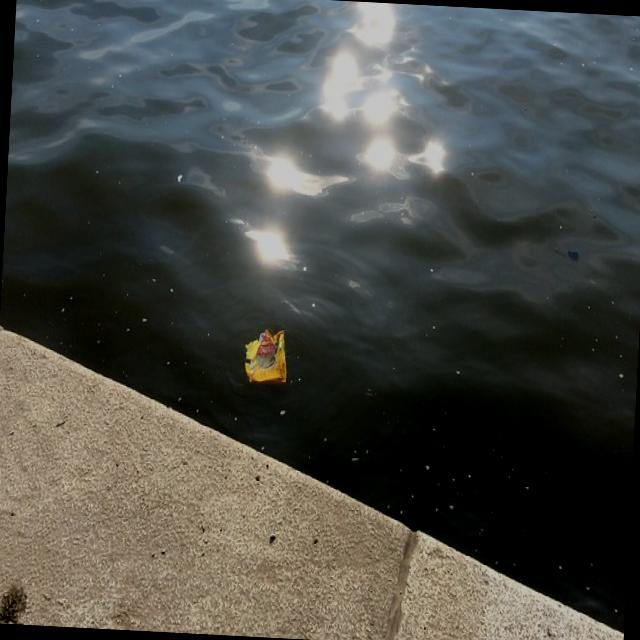Trash: (242, 330, 290, 386)
